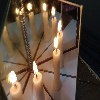fire: (33, 60, 38, 76)
